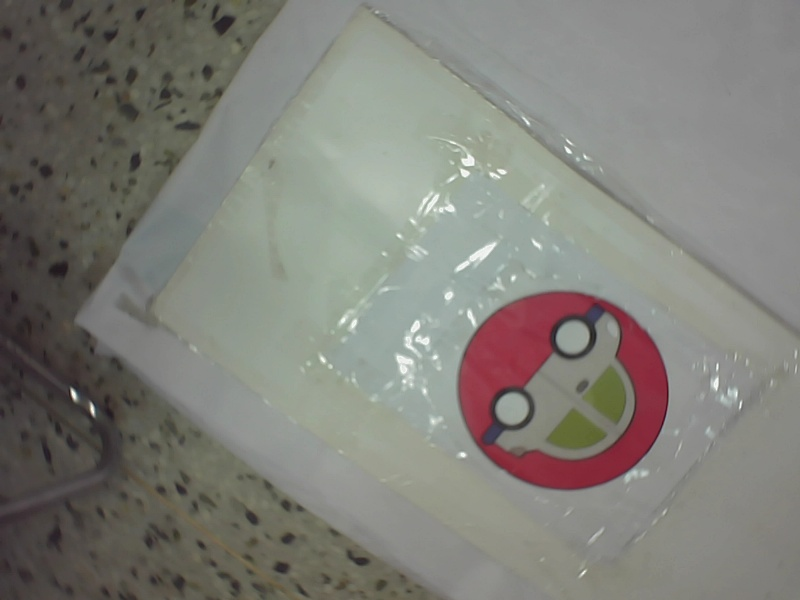areaC: (454, 285, 677, 490)
